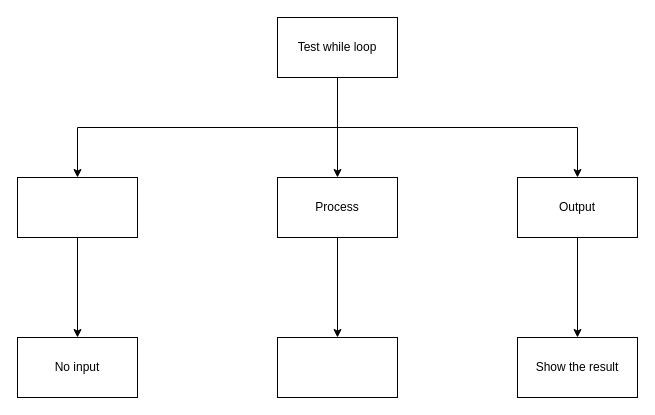
Image size: 655x415. Some labels were removed from this diagram. The shapes that lost their labels are listed below. From the top down, each one's centre as x and y in pixels, then its label:
(x=77, y=207): Input
(x=337, y=367): Loop until 2 dice got double
